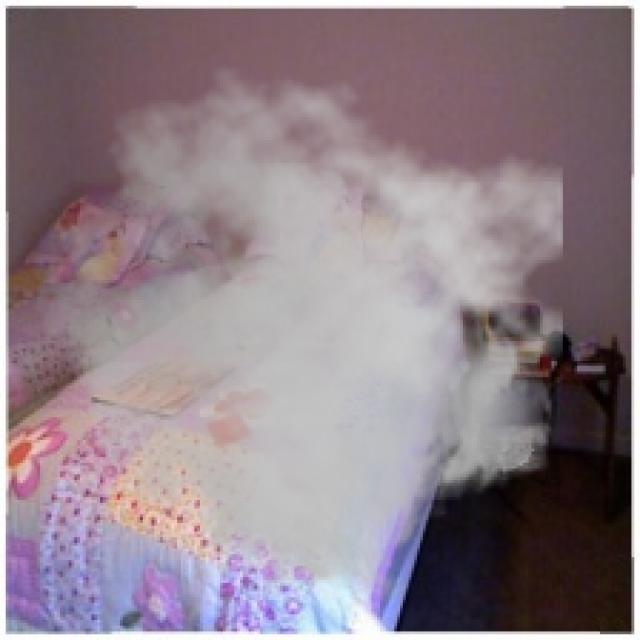smoke: (31, 63, 563, 606)
